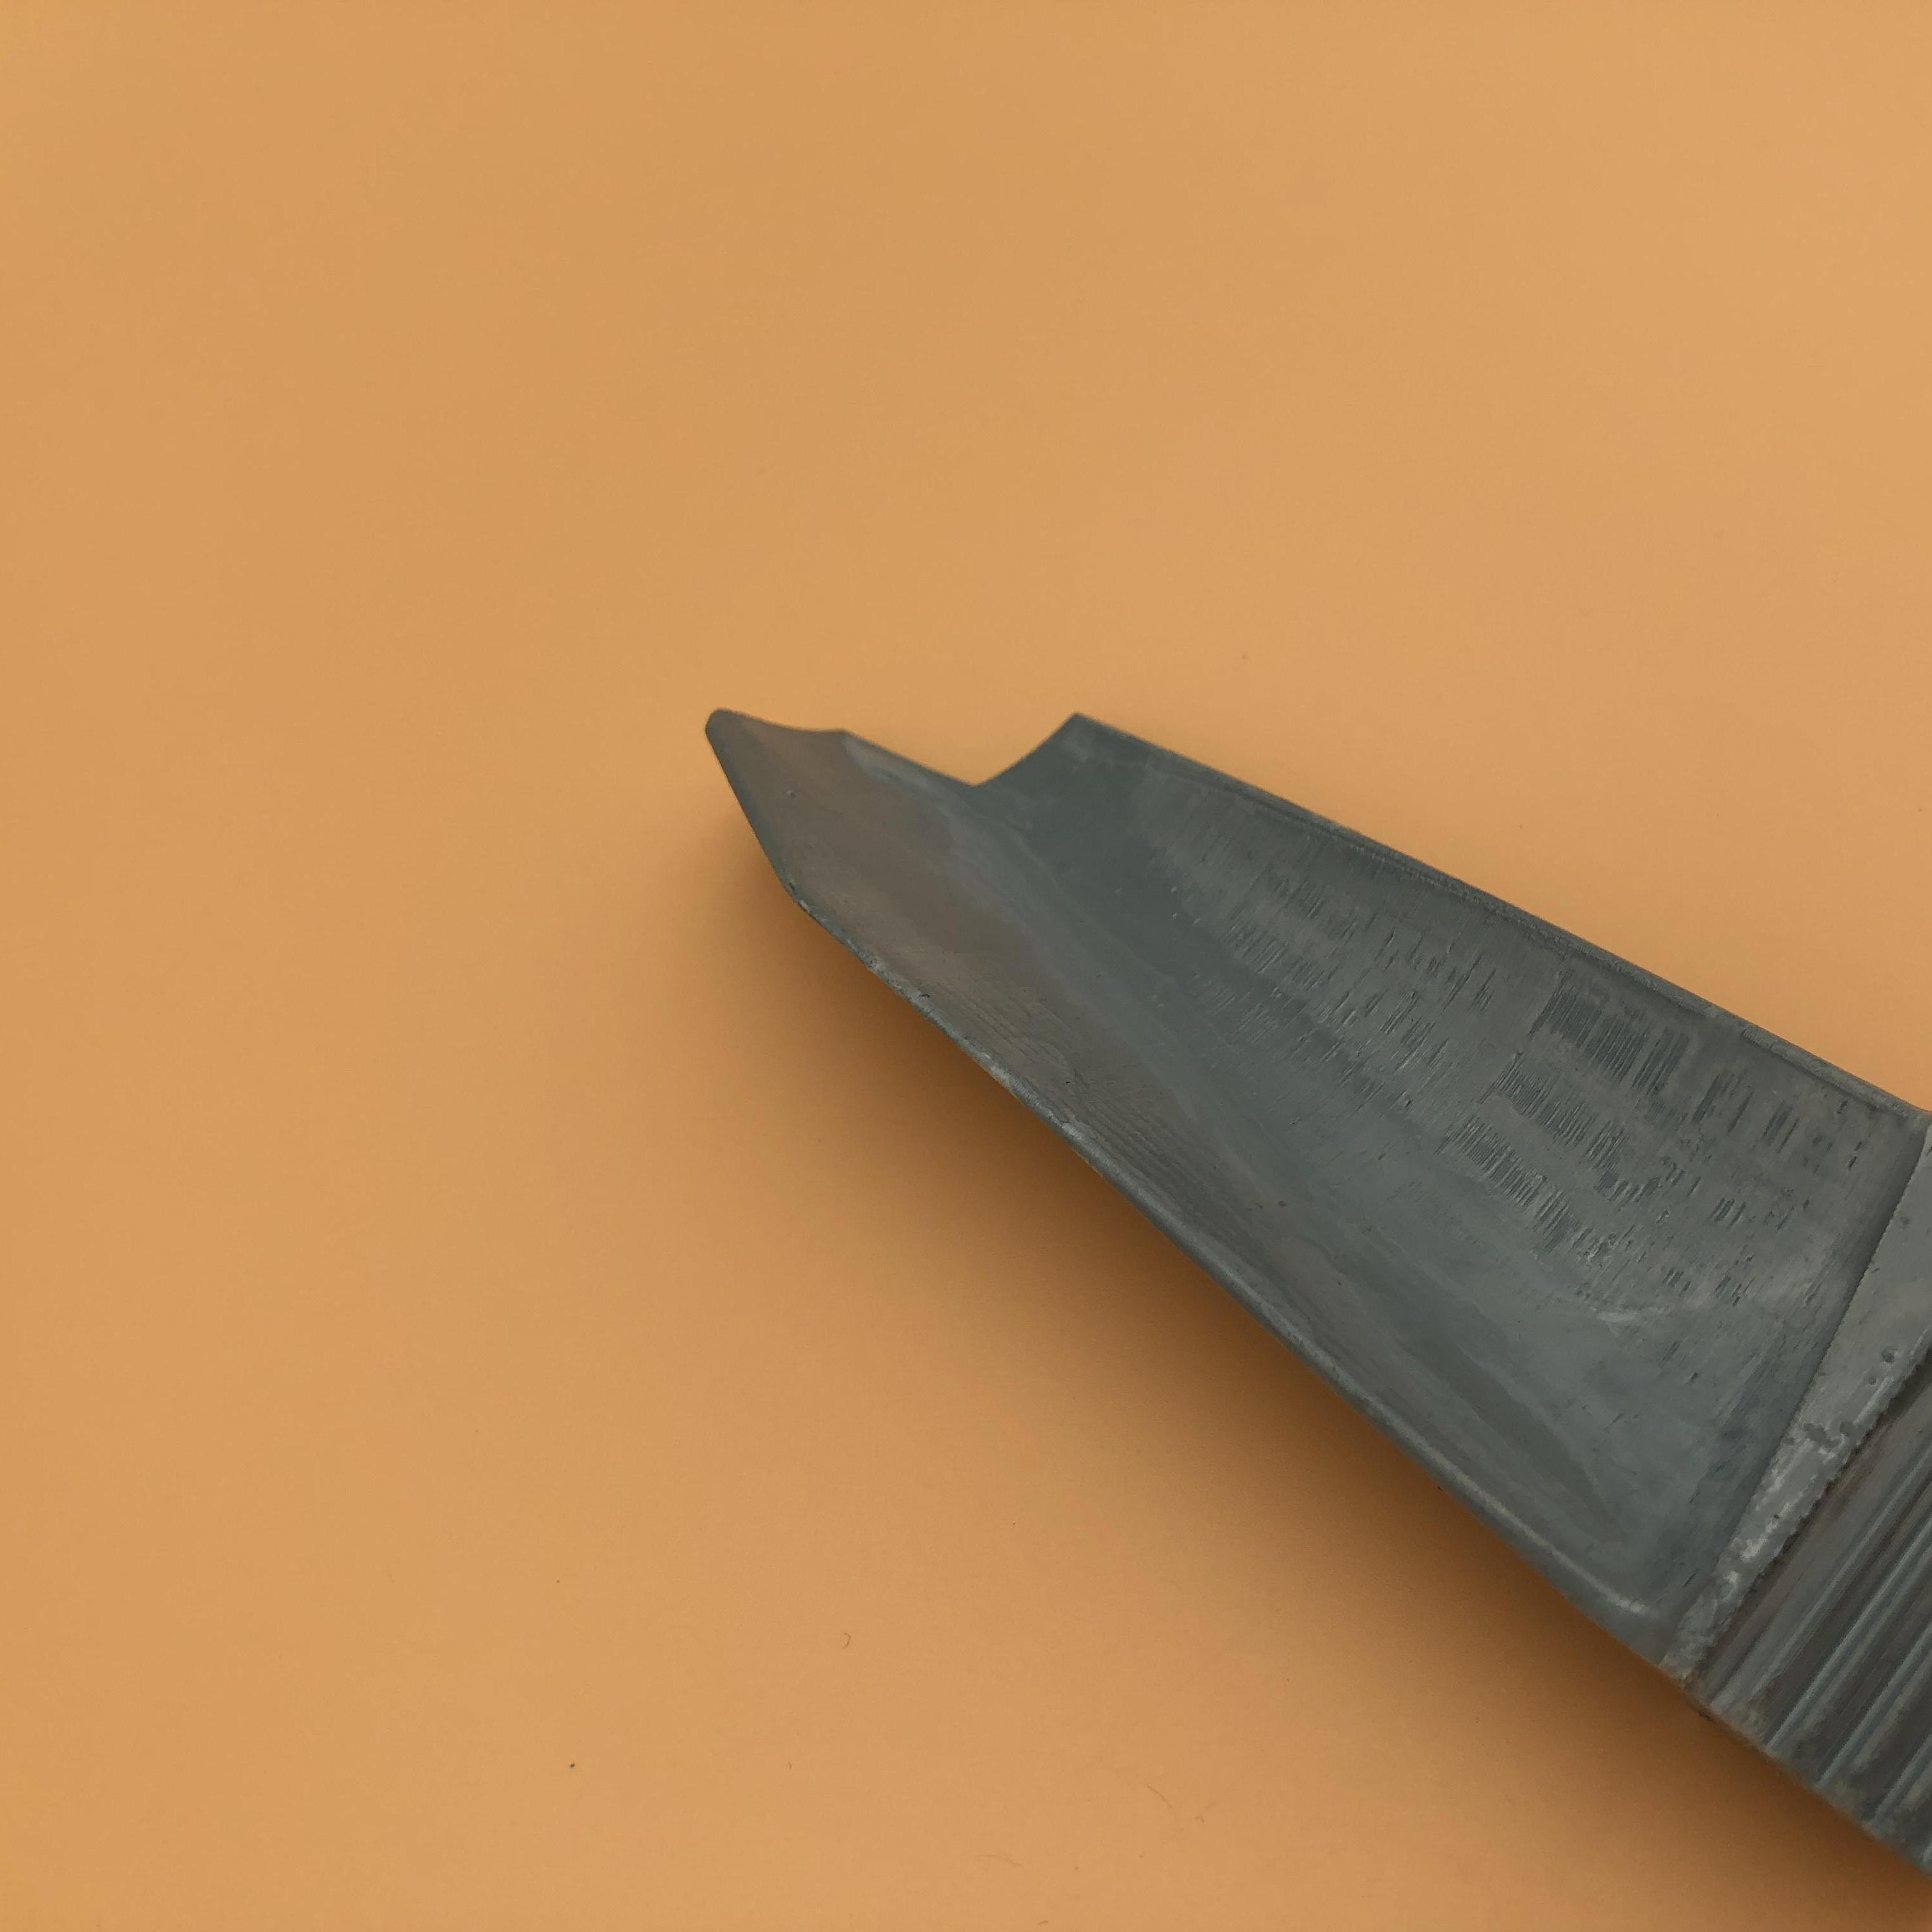fracture: (743, 685, 1115, 803)
